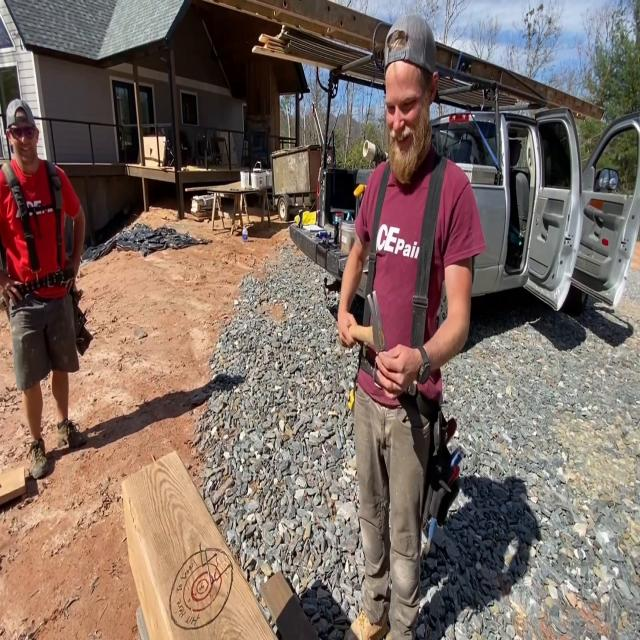hammer: (349, 290, 385, 356)
